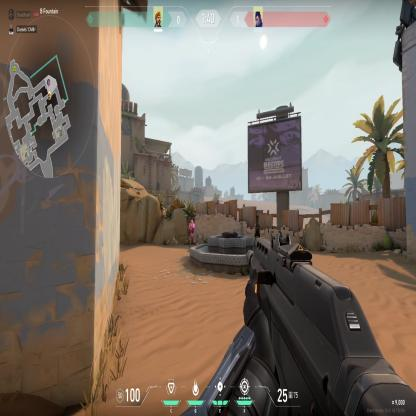enemy: (187, 217, 198, 253)
